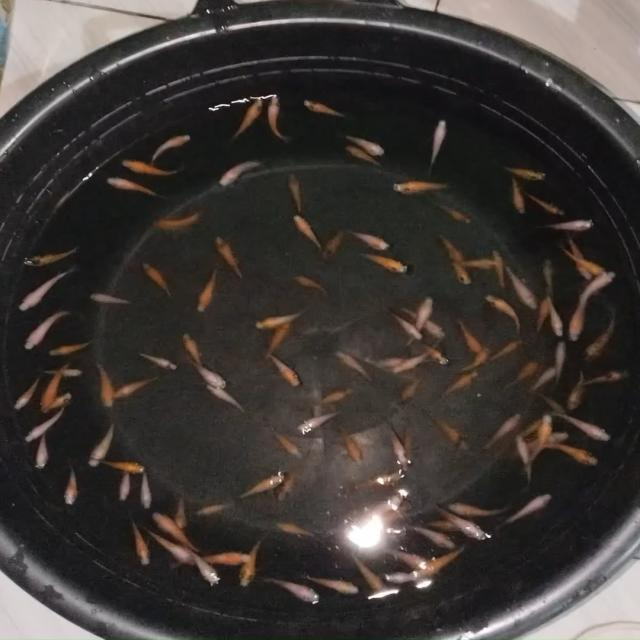nila: (14, 269, 80, 314), (146, 503, 200, 554), (552, 404, 614, 444), (343, 548, 390, 600), (438, 498, 492, 542), (22, 306, 72, 352), (256, 573, 322, 604), (22, 402, 68, 446), (416, 542, 470, 579), (144, 532, 198, 568), (229, 95, 267, 146), (400, 303, 448, 342), (183, 354, 232, 392), (501, 491, 555, 525), (548, 437, 600, 471), (100, 176, 173, 200), (212, 233, 246, 284), (507, 406, 550, 446), (432, 411, 469, 457), (332, 129, 388, 159), (484, 293, 526, 333), (216, 158, 270, 188), (482, 411, 518, 456), (296, 407, 345, 440), (264, 345, 302, 387), (20, 246, 86, 270), (247, 305, 310, 330), (406, 294, 436, 346), (524, 416, 552, 471), (235, 471, 288, 500), (298, 573, 362, 597), (334, 346, 372, 386), (146, 208, 204, 234), (112, 371, 162, 401), (353, 463, 401, 494), (178, 546, 252, 566), (506, 264, 538, 310), (560, 246, 606, 278), (300, 95, 354, 122), (85, 424, 116, 471), (396, 347, 448, 375), (408, 520, 460, 548), (288, 214, 326, 252), (511, 430, 571, 454), (358, 251, 409, 279), (586, 314, 618, 358), (186, 546, 218, 590), (580, 269, 618, 306), (322, 224, 357, 264), (90, 452, 148, 476), (436, 370, 482, 400), (264, 310, 294, 356), (238, 534, 264, 587), (204, 384, 247, 416), (272, 426, 308, 464), (46, 332, 103, 356), (426, 118, 450, 174), (434, 233, 472, 268), (140, 261, 174, 300), (124, 518, 150, 569), (363, 492, 404, 524), (568, 289, 592, 343), (308, 384, 354, 412), (396, 372, 436, 404), (446, 494, 510, 514), (265, 95, 292, 142), (150, 134, 192, 164), (577, 366, 634, 388), (386, 309, 424, 342), (274, 465, 307, 503), (346, 227, 394, 253), (377, 498, 421, 526), (568, 360, 592, 410), (194, 266, 220, 312), (387, 426, 413, 472), (120, 158, 184, 176), (290, 272, 334, 298), (380, 542, 432, 564), (511, 428, 531, 485), (338, 424, 364, 467), (399, 423, 418, 481), (41, 366, 63, 416), (344, 145, 386, 171), (524, 190, 566, 216), (138, 347, 180, 373), (506, 359, 542, 389), (96, 362, 115, 415), (274, 518, 324, 538), (388, 178, 454, 193), (459, 345, 492, 375), (114, 461, 136, 506), (380, 568, 432, 587), (61, 457, 80, 508), (502, 162, 546, 184), (434, 201, 474, 225), (446, 255, 474, 289), (171, 490, 193, 533), (536, 387, 566, 418), (419, 336, 452, 364), (570, 239, 592, 280), (532, 364, 562, 394), (491, 248, 513, 288), (458, 316, 480, 356), (16, 378, 40, 414), (37, 387, 74, 410), (544, 295, 563, 339), (89, 292, 138, 309), (490, 339, 526, 362), (183, 332, 206, 368), (540, 218, 598, 232), (552, 339, 568, 389), (536, 289, 553, 335), (286, 173, 306, 212), (380, 356, 428, 372), (34, 426, 50, 474), (510, 177, 527, 219), (190, 501, 232, 518), (540, 258, 558, 296), (452, 257, 504, 270), (136, 468, 152, 510), (422, 518, 469, 532), (46, 367, 82, 378)
